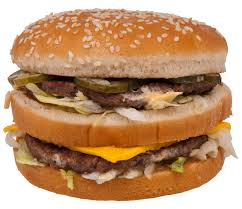hamburger: (8, 8, 234, 200)
